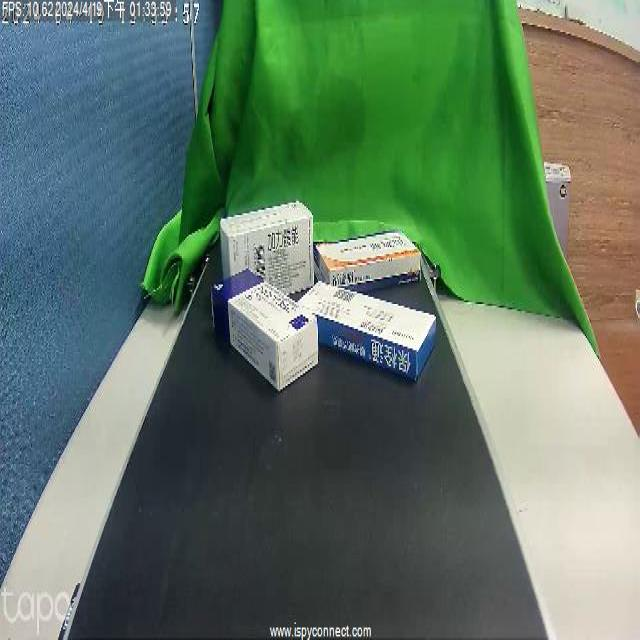box: (231, 273, 310, 385), (327, 208, 419, 295), (322, 277, 420, 358), (223, 192, 315, 278)
